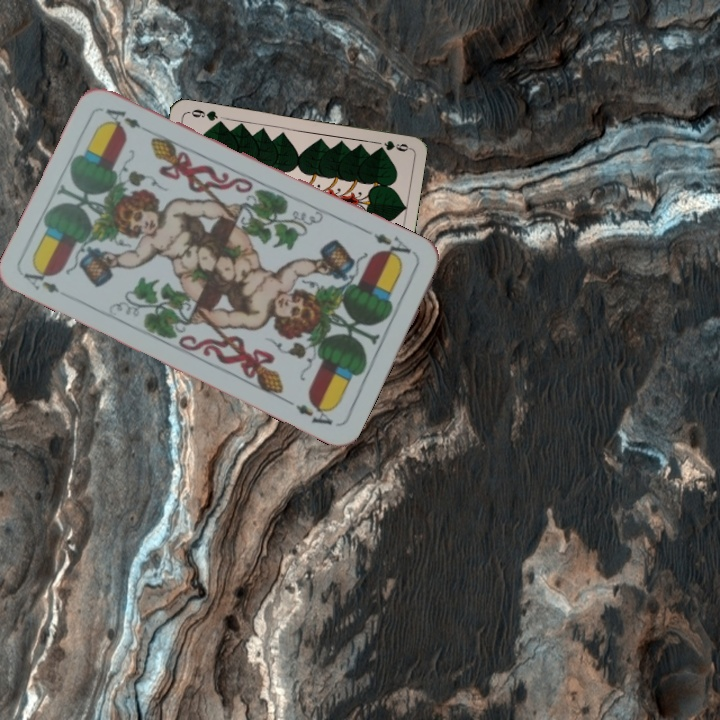EA: (369, 229, 419, 264), (20, 262, 62, 296)
G9: (380, 136, 411, 154)
